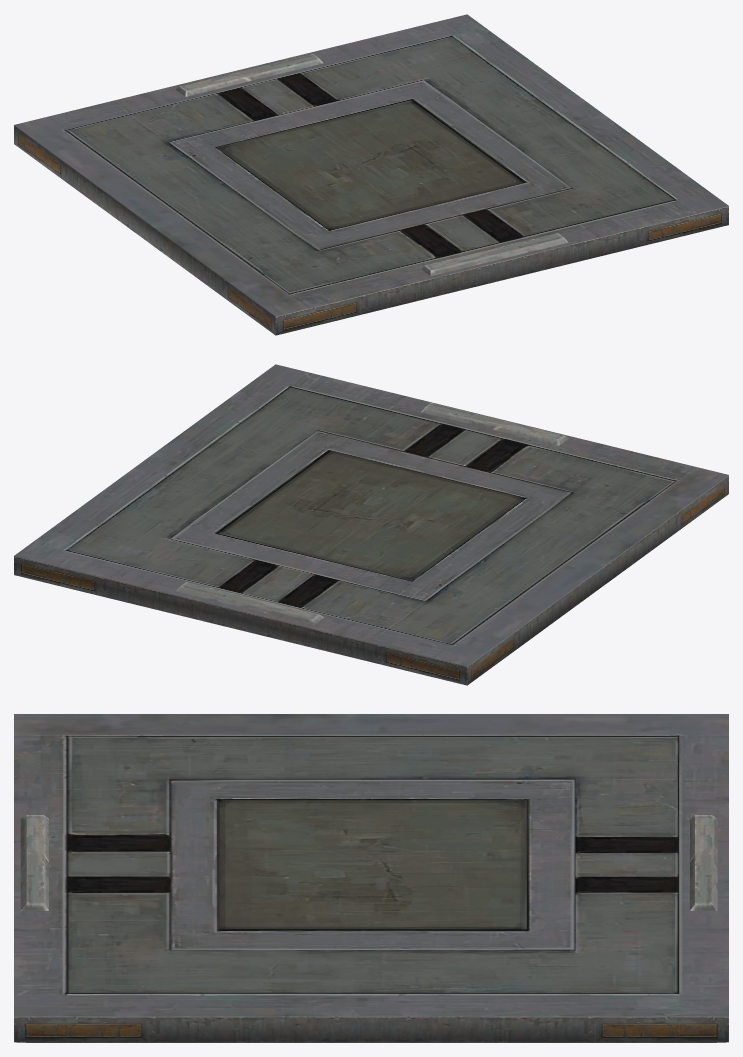
The model's file is hut_arch_industrial_table.glb.
3 views of the same model, one above another, from view 1: azimuth 30°, elevation 25°; view 2: azimuth 150°, elevation 25°; view 3: azimuth 270°, elevation 25° (orthographic). The views are drawn at different scales.
Visible parts, largest first — view 1: hut_arch_industrial_table; view 2: hut_arch_industrial_table; view 3: hut_arch_industrial_table.
Part boxes in pixels (x1,y1,x2,y2): hut_arch_industrial_table: (14,14,728,335); hut_arch_industrial_table: (14,364,728,685); hut_arch_industrial_table: (14,714,728,1042).
Size of the model in its own units: 2 by 0.1184 by 2.
2 materials, 2 textured.
